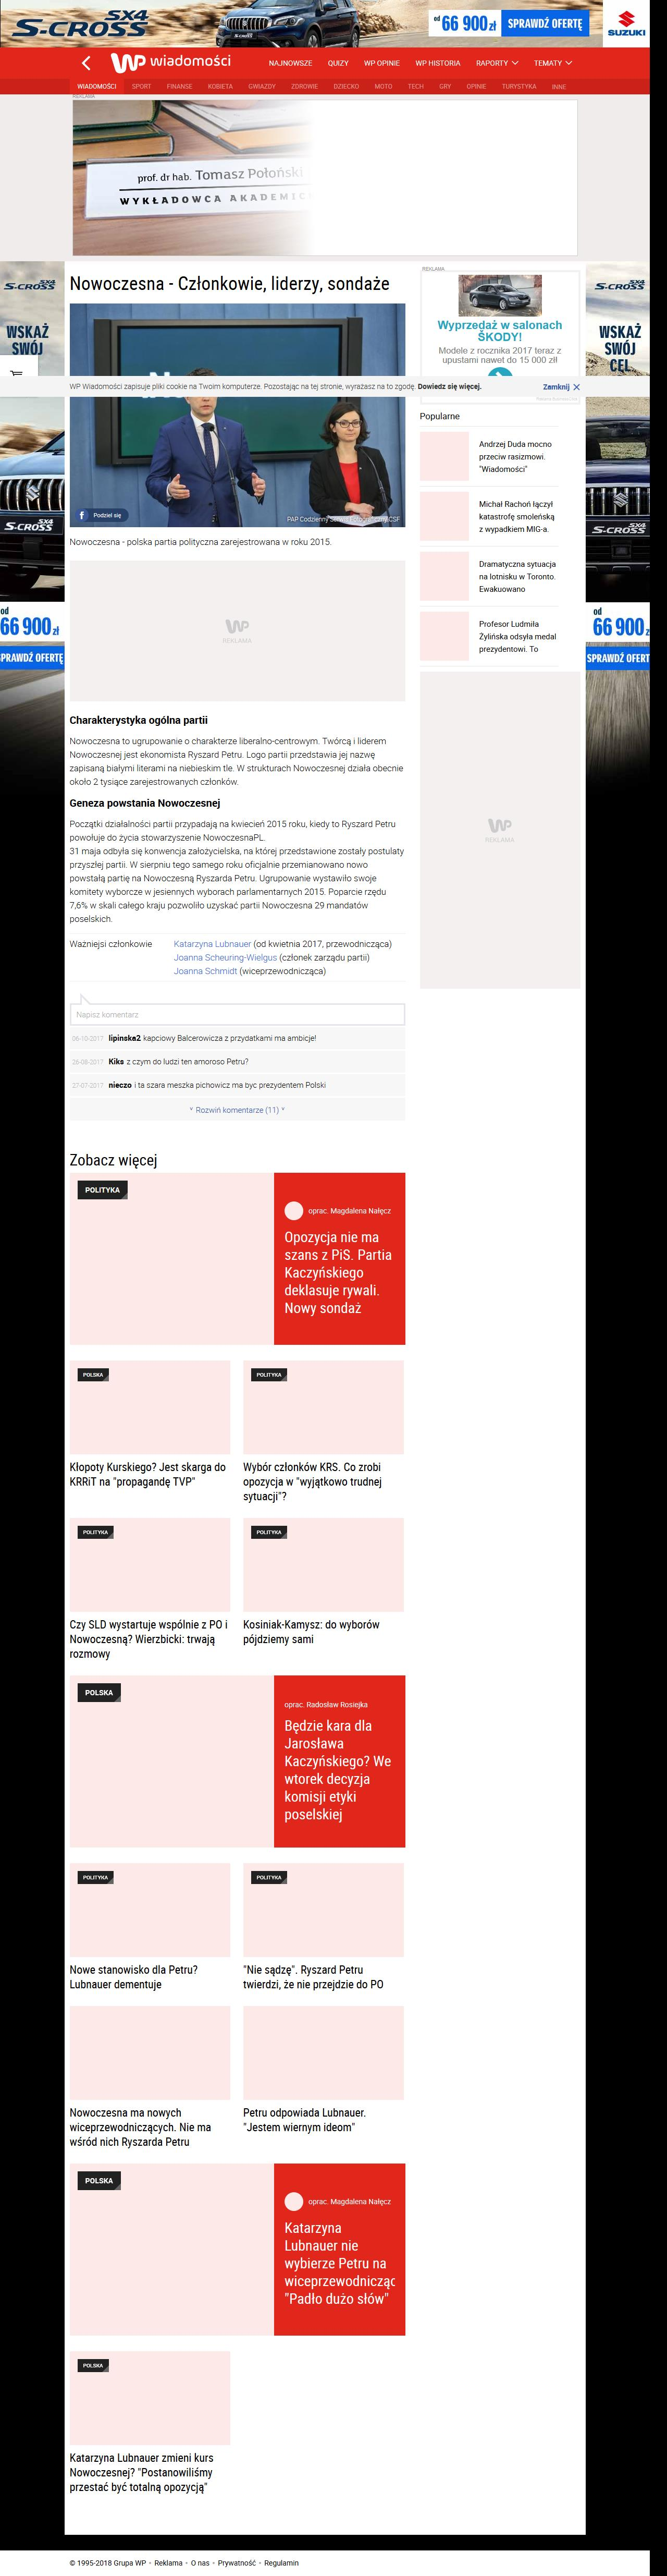title: (69, 274, 389, 296)
